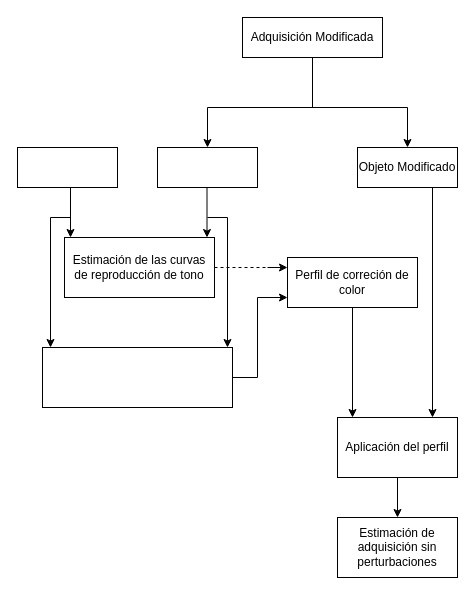
This 475x595 diagram has some shape labels left out. Each missing label, with the box of its shape:
Estimación de la matriz de correción de color: (42, 346, 232, 408)
Patrón Modificado: (156, 146, 258, 188)
Patrón Original: (16, 146, 118, 188)
